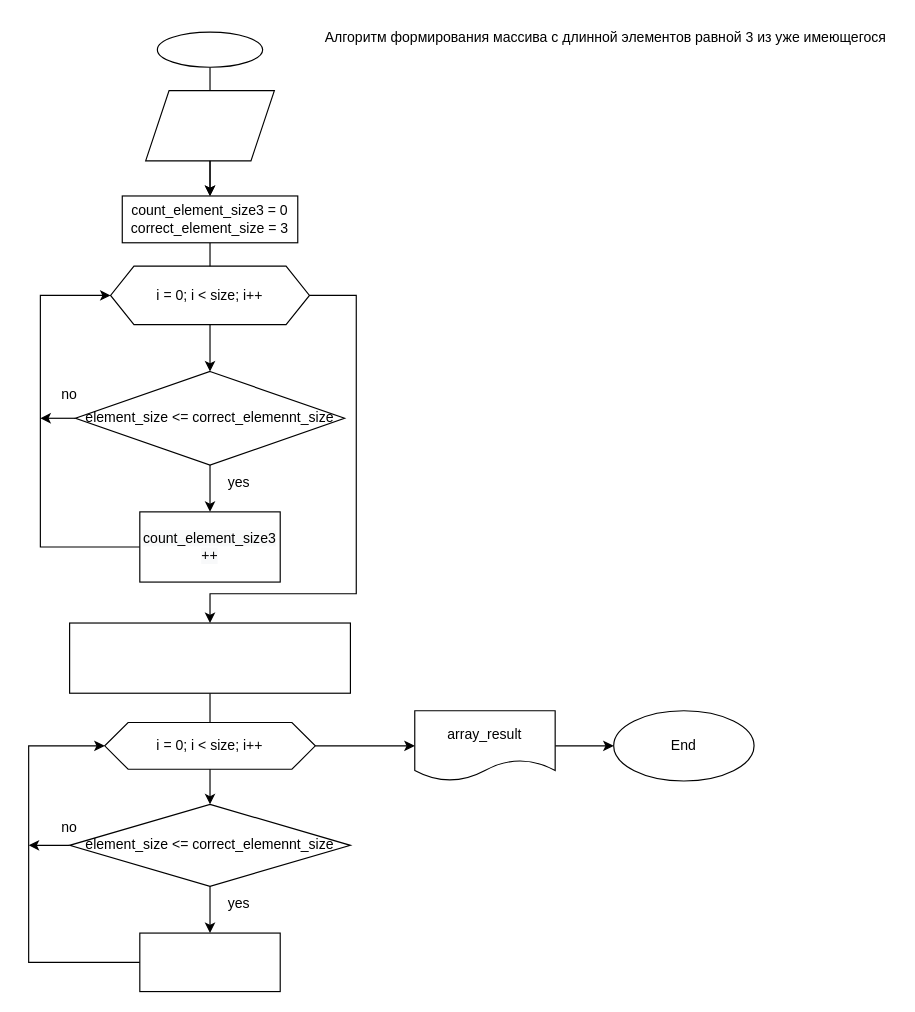
The diagram is 915 pixels wide and 1012 high, and some of its shapes have lost their labels. The shapes that lost their labels are listed below. From the top down, each one's centre as x and y in pixels, then its label:
At pixel 209 49: "start".
At pixel 209 125: "array size element_size".
At pixel 209 657: "array_result size_result = count_element_size3 index = 0;".
At pixel 209 962: "element [index] = element [i] index ++".
